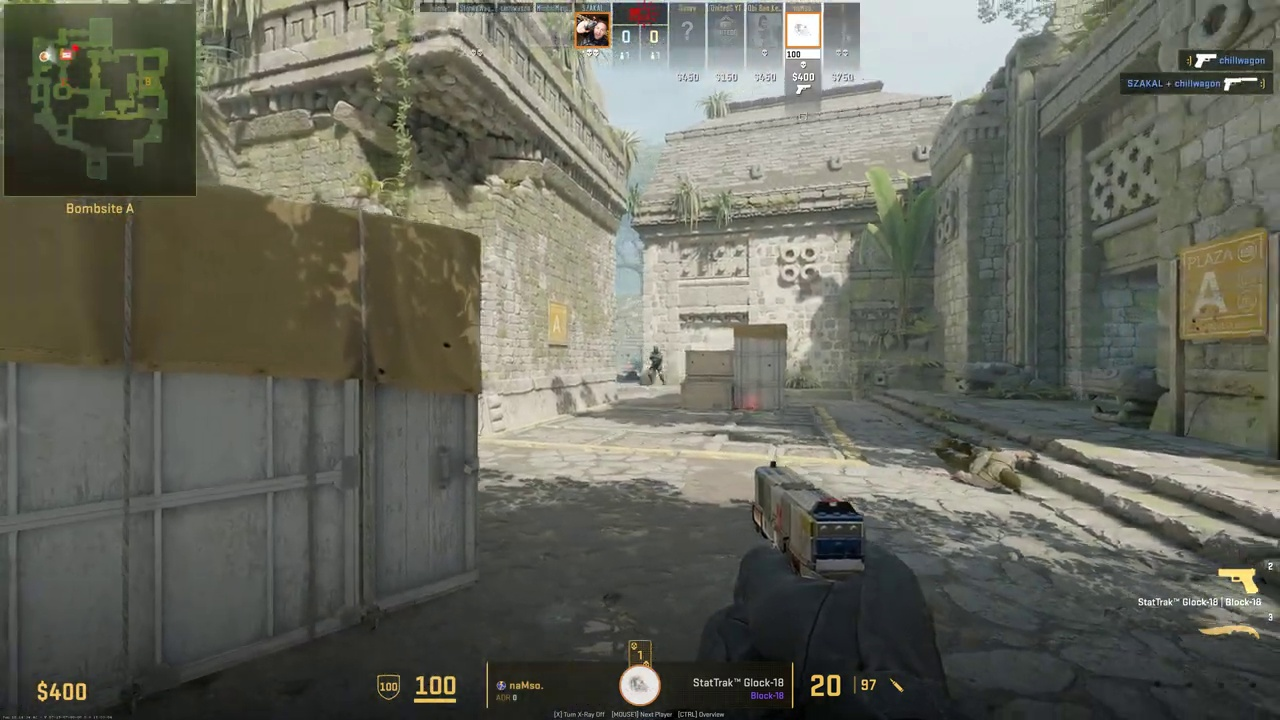CT: (648, 347, 665, 385)
